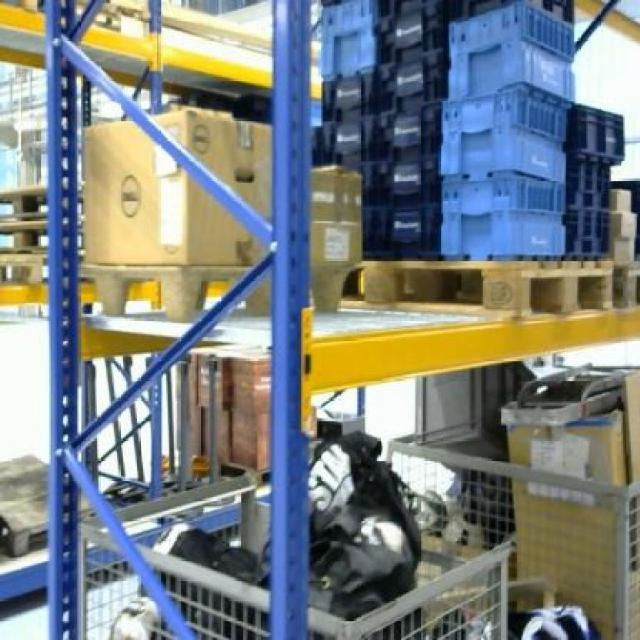box: (81, 110, 272, 264), (506, 422, 628, 575), (309, 167, 363, 266)
